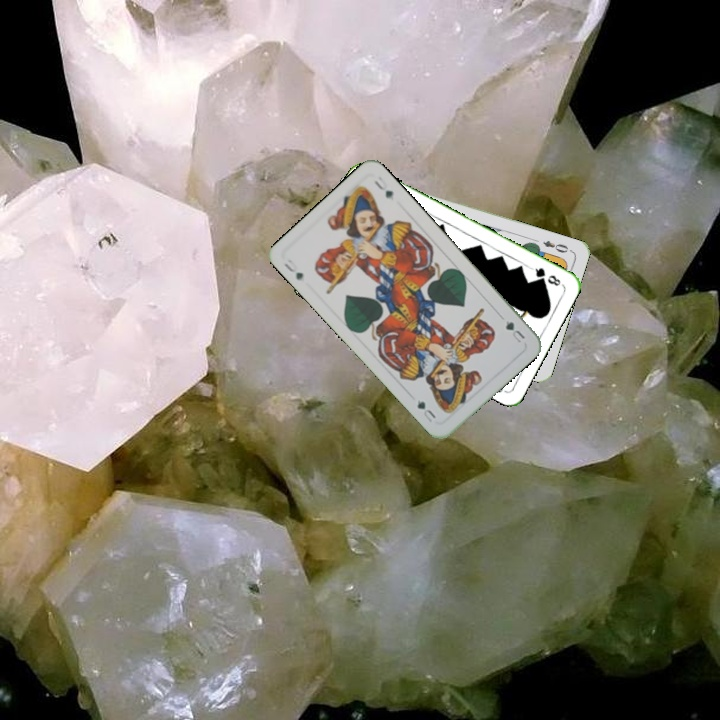EO: (539, 236, 571, 256)
G8: (527, 263, 563, 289)
GU: (501, 316, 528, 345), (280, 255, 306, 283)
